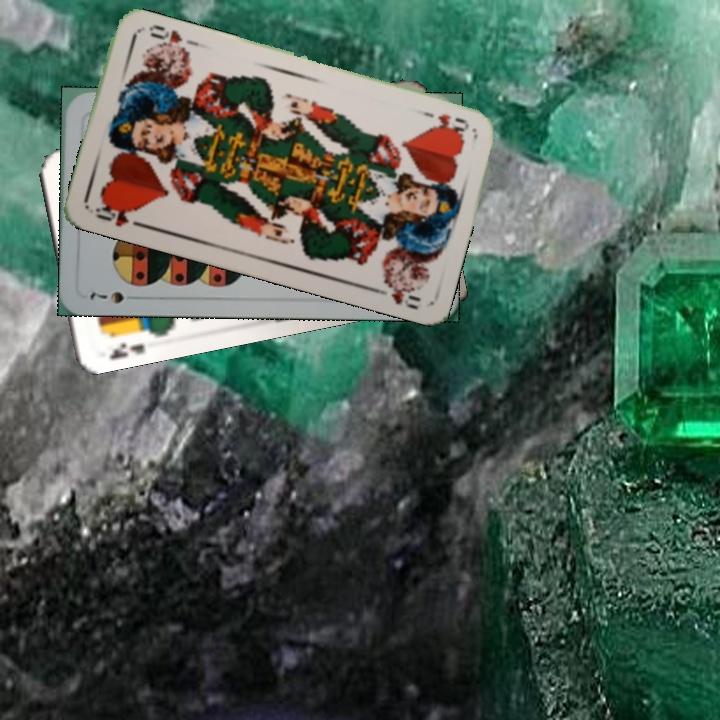EK: (105, 338, 147, 362)
HO: (91, 198, 146, 230), (416, 107, 472, 134)
S7: (85, 287, 142, 306)
